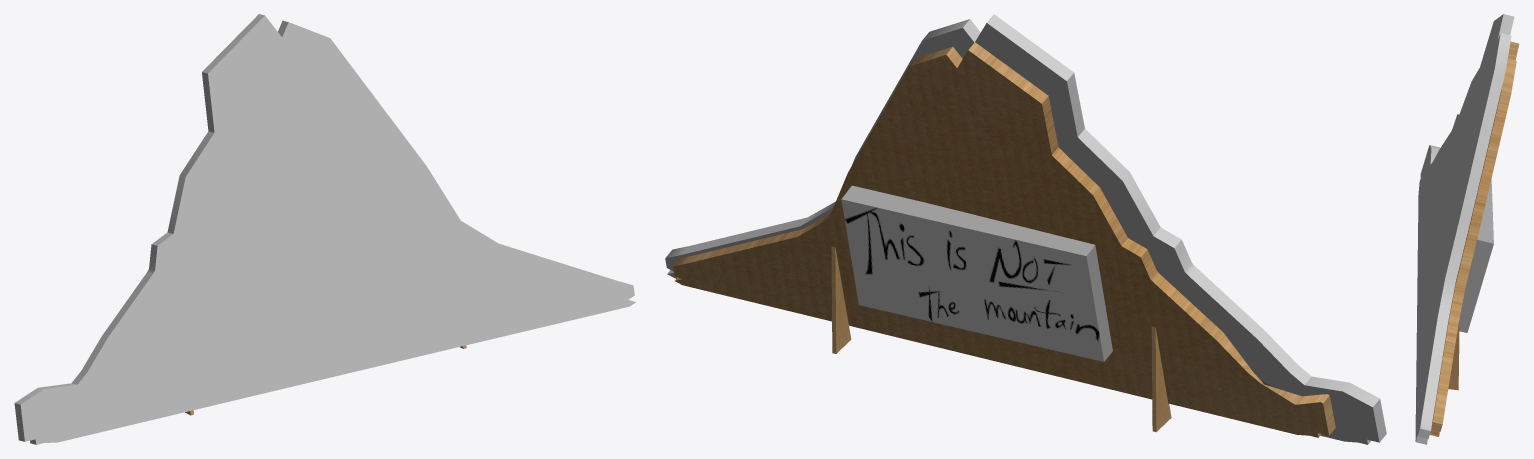
File: mountain2.fbx
The picture shows the model from 3 angles, left to right: view 1: azimuth 30°, elevation 25°; view 2: azimuth 150°, elevation 25°; view 3: azimuth 270°, elevation 25°; orthographic projection. The views are drawn at different scales.
Parts seen in each view (by area): view 1: polySurface2; view 2: polySurface4, polySurface6, polySurface2, polySurface7, polySurface5; view 3: polySurface2, polySurface4, polySurface6, polySurface7.
Part boxes in pixels (<box>): polySurface2: <box>14,14,635,444</box>; polySurface4: <box>673,42,1335,437</box>; polySurface6: <box>841,185,1112,361</box>; polySurface2: <box>665,14,1386,444</box>; polySurface7: <box>831,246,851,353</box>; polySurface5: <box>1151,326,1171,432</box>; polySurface2: <box>1415,14,1514,444</box>; polySurface4: <box>1430,41,1519,436</box>; polySurface6: <box>1459,179,1493,332</box>; polySurface7: <box>1448,319,1459,390</box>.
Bounding box in the file's own units: 17.87 × 9.74 × 3.
